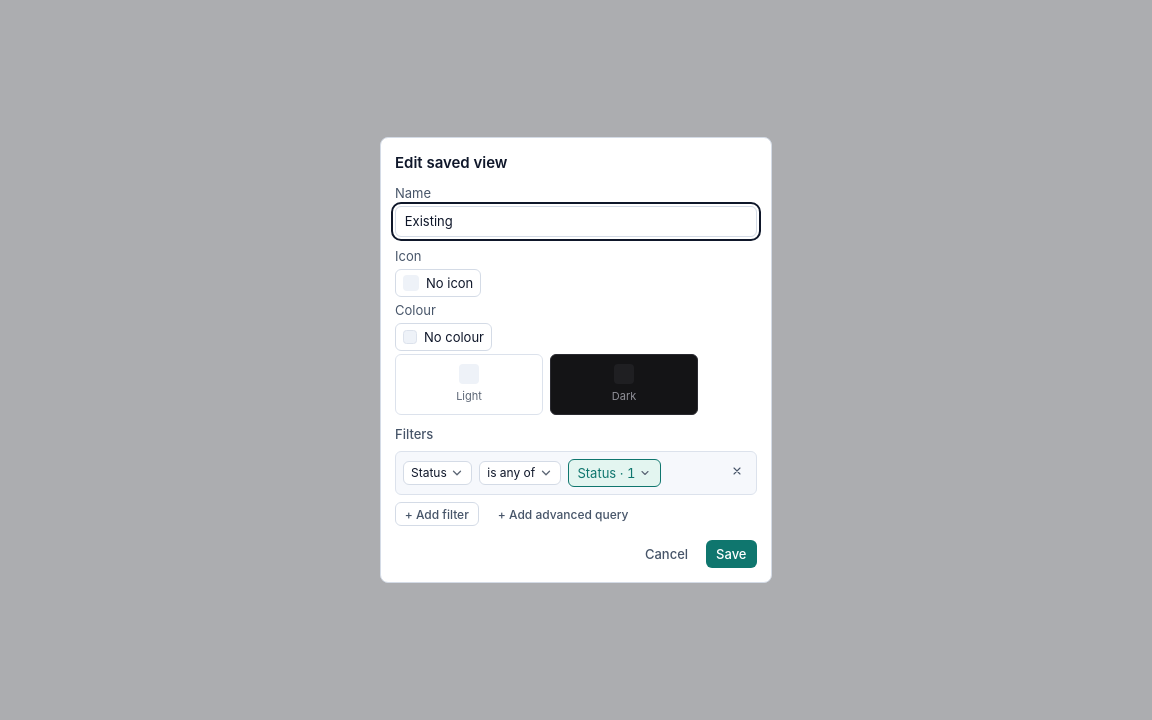
Test case: ViewFormDialog — chrome › clears the values when the field changes, so a row never holds another field's values
expect the text "· 1" is shown: met, box top-left (620, 464), bottom-right (635, 482)
Click the button with test id "view-filter-field-0" at (438, 473), box top-left (403, 461), bottom-right (472, 485)
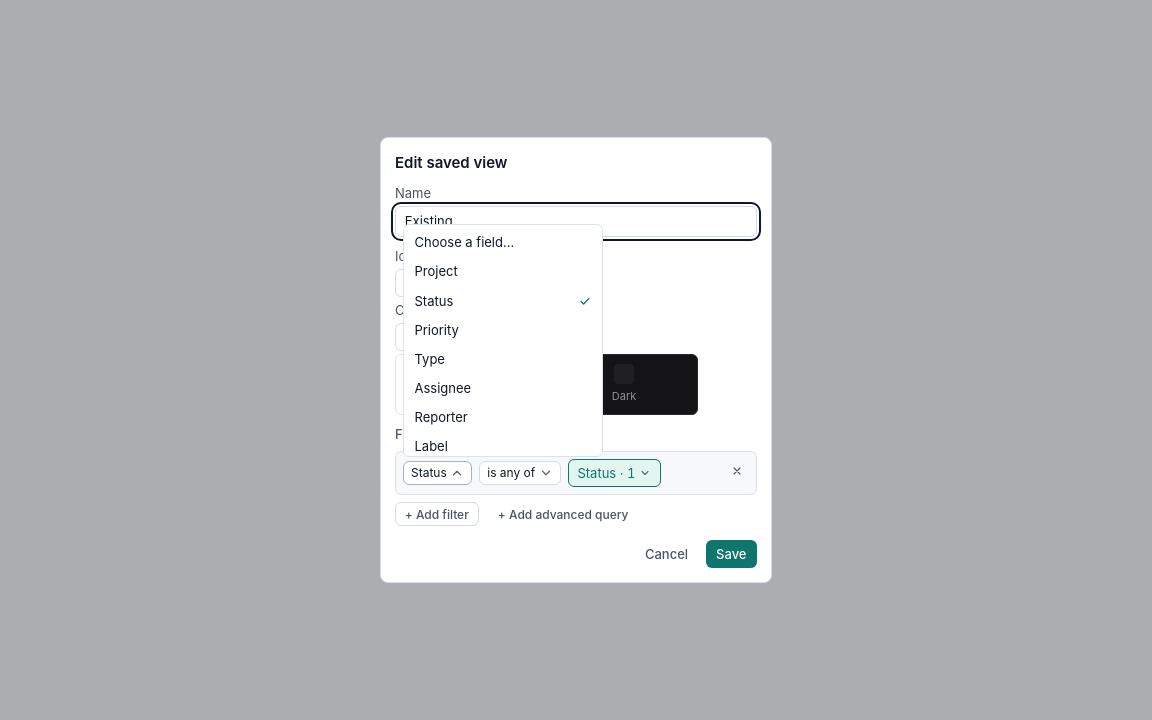
Click the option "Priority" at (503, 330), box top-left (404, 315), bottom-right (602, 344)
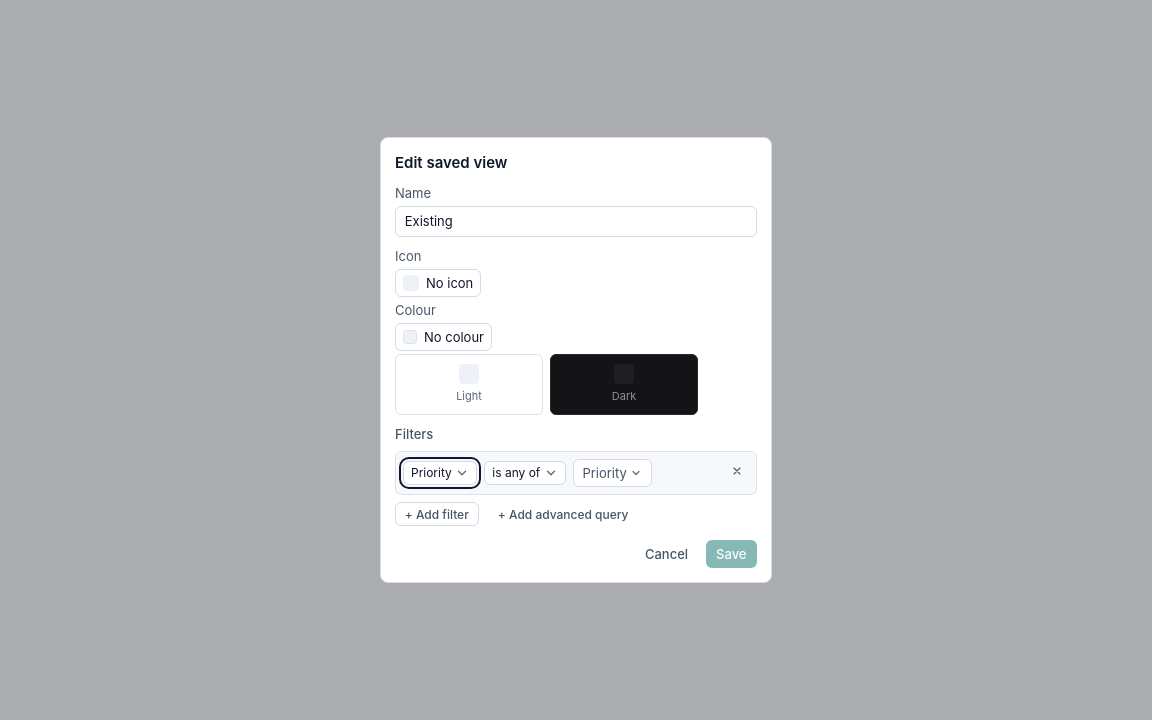
expect the text "Filter Priority" no longer shows "· 1": met
